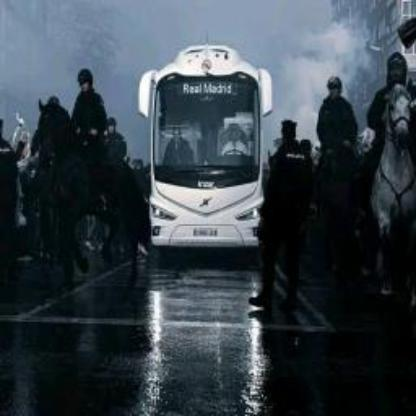bus: (128, 42, 272, 264)
